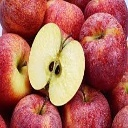apple: (27, 22, 85, 107)
